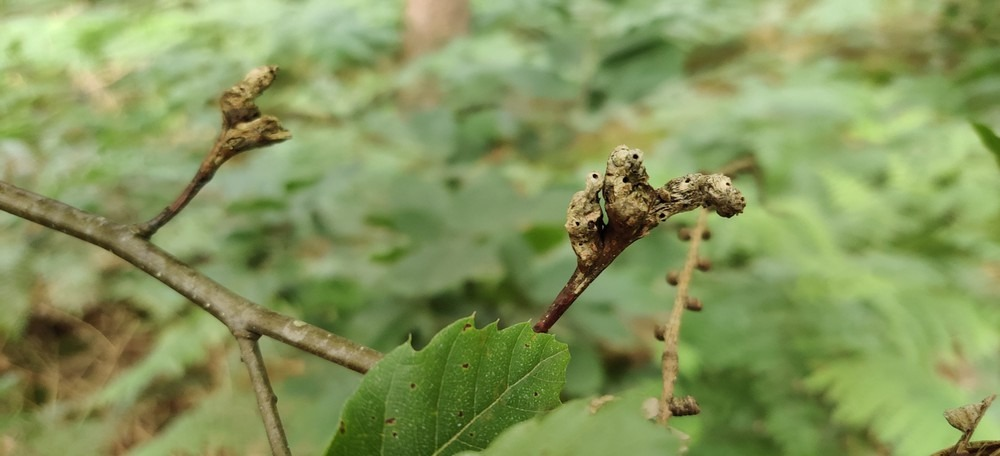galarisi: (540, 132, 750, 315)
